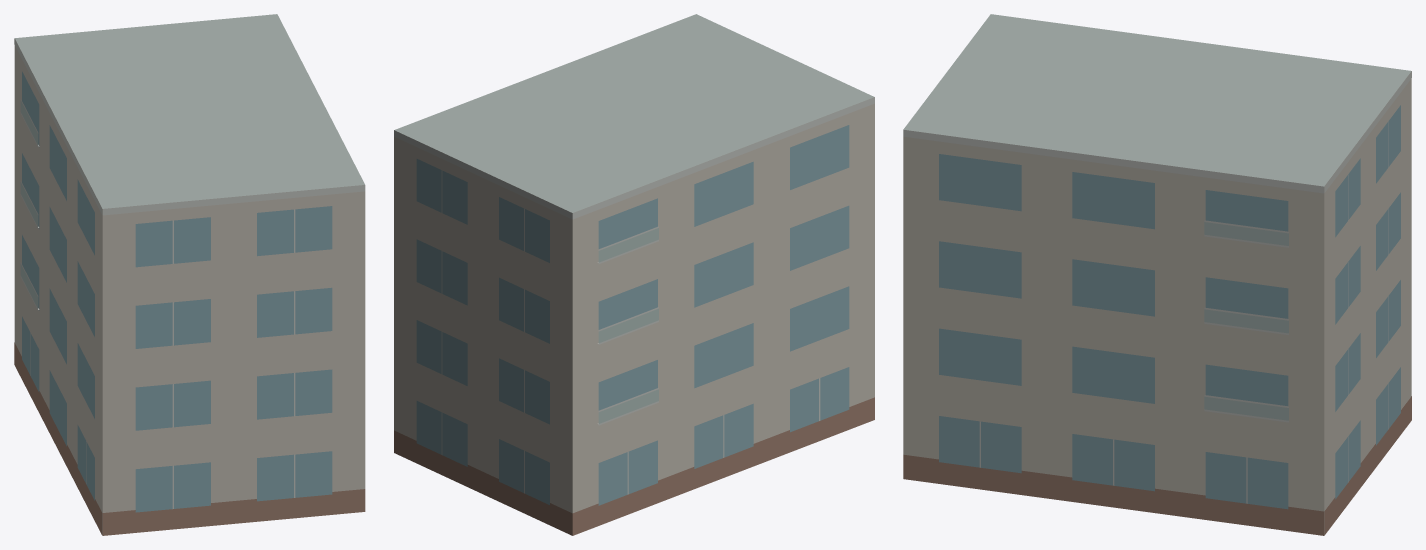
Rendered from residential-9eef1116-6e0a-40ad-9e9c-b1566b9940b4.glb.
3 views of the same model, side by side, from view 1: azimuth 30°, elevation 25°; view 2: azimuth 150°, elevation 25°; view 3: azimuth 270°, elevation 25° (orthographic). The views are drawn at different scales.
Parts seen in each view (by area): view 1: residential-9eef1116-6e0a-40ad-9e9c-b1566b9940b4.tmp; view 2: residential-9eef1116-6e0a-40ad-9e9c-b1566b9940b4.tmp; view 3: residential-9eef1116-6e0a-40ad-9e9c-b1566b9940b4.tmp.
Boxes of the visible parts, x1,y1,x2,y2 form: residential-9eef1116-6e0a-40ad-9e9c-b1566b9940b4.tmp: [14, 14, 365, 535]; residential-9eef1116-6e0a-40ad-9e9c-b1566b9940b4.tmp: [394, 14, 874, 535]; residential-9eef1116-6e0a-40ad-9e9c-b1566b9940b4.tmp: [903, 14, 1411, 535].
Bounding box in the file's own units: 12.93 × 12.2 × 16.11.
